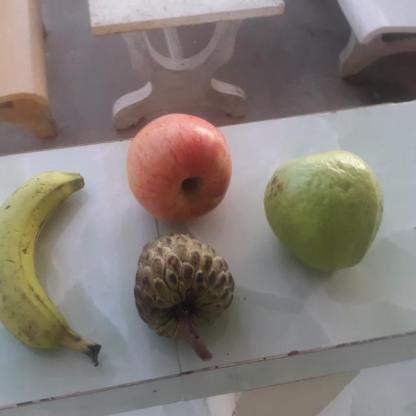annona: (135, 235, 241, 342)
apple: (122, 115, 237, 221)
banana: (0, 173, 92, 351)
guava: (269, 155, 386, 271)
